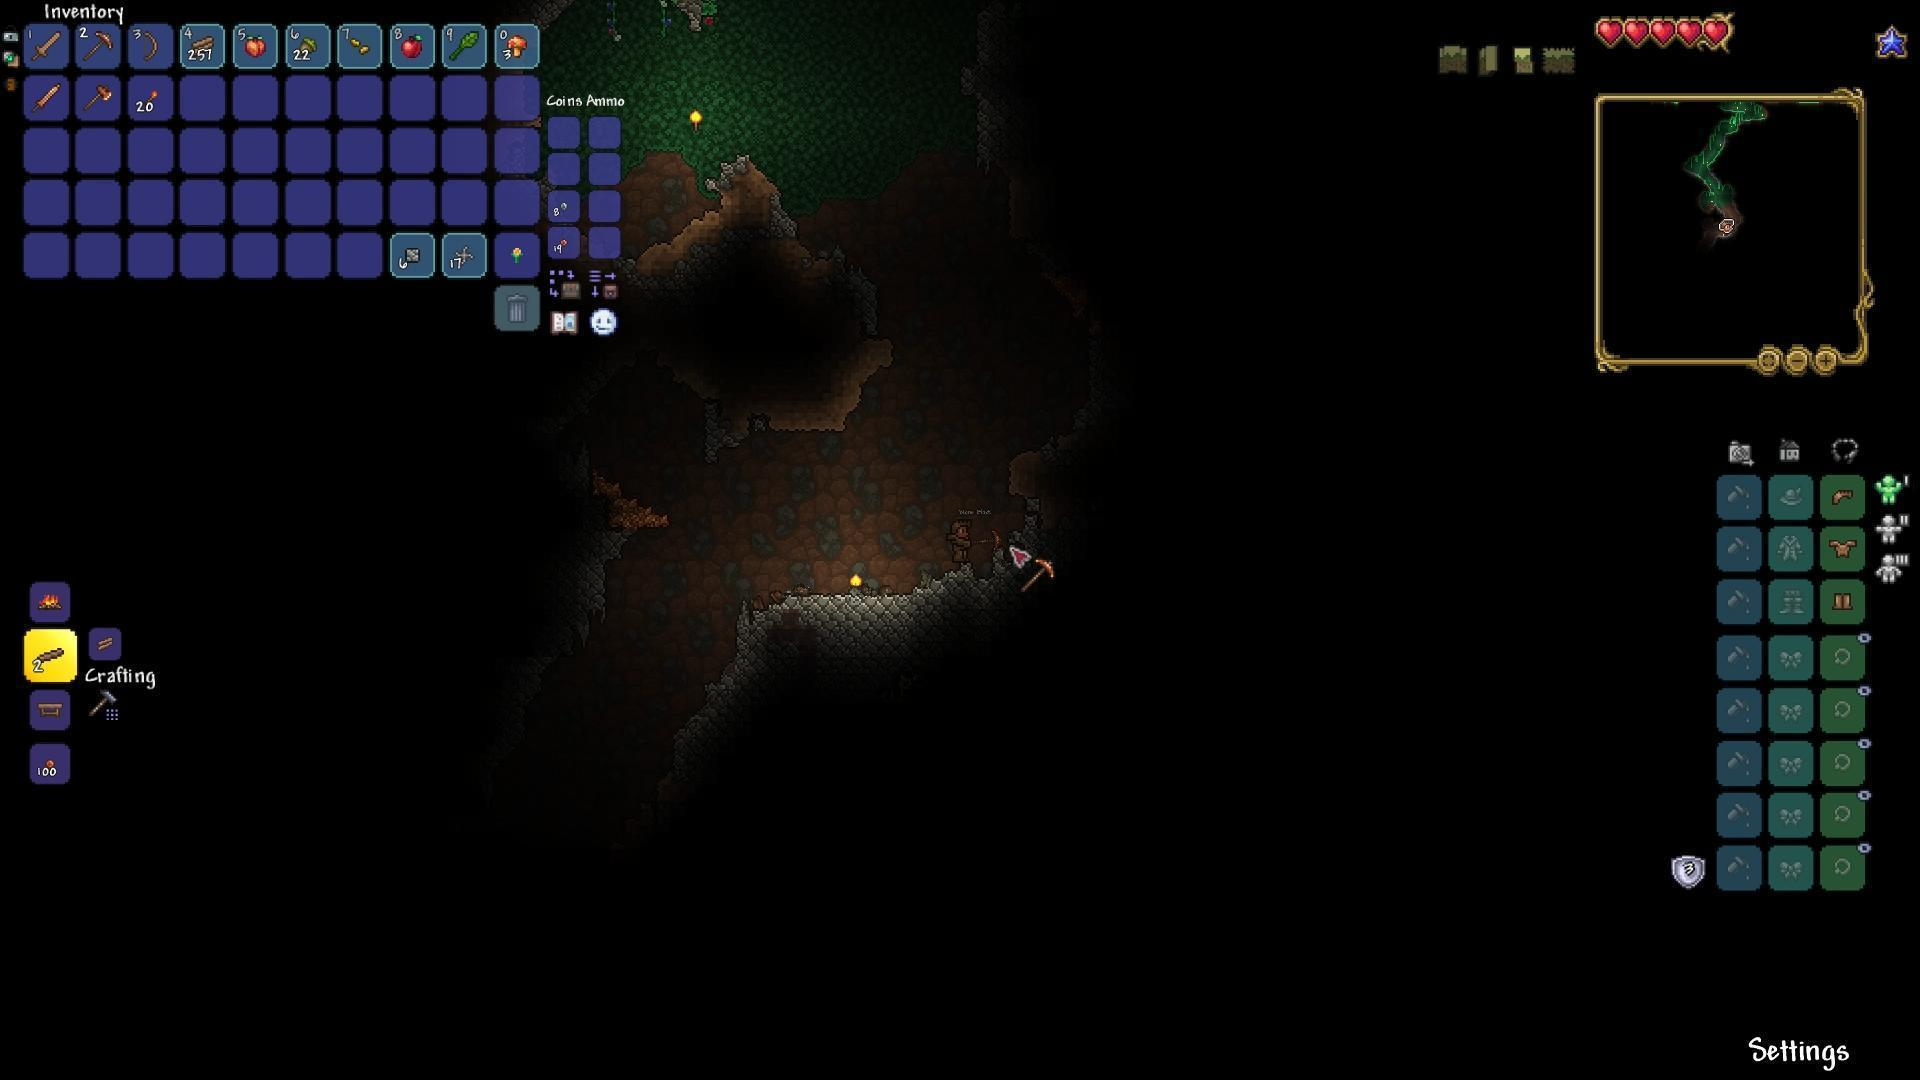axe: (83, 80, 112, 112)
bow: (140, 28, 160, 62)
breastplate: (1828, 537, 1859, 562)
helmet: (1829, 484, 1857, 512)
legs: (1832, 592, 1853, 612)
pickaxe: (82, 30, 115, 65)
shuriken: (454, 244, 475, 266)
sword: (29, 32, 61, 66), (30, 83, 62, 116)
wood: (189, 32, 216, 57), (96, 633, 116, 653)
